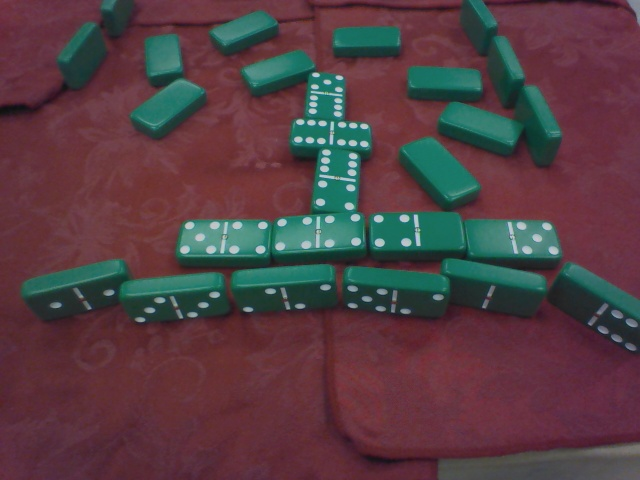A: (392, 135, 483, 205), (124, 74, 212, 142), (428, 95, 528, 154), (203, 4, 286, 56), (236, 46, 316, 96), (324, 17, 404, 66), (404, 62, 487, 99), (135, 31, 188, 78)
B: (297, 146, 374, 216), (363, 206, 465, 256), (465, 212, 559, 264), (267, 208, 368, 255), (175, 214, 272, 261), (286, 115, 375, 157), (296, 64, 353, 122)
C: (57, 23, 108, 92), (96, 1, 136, 37)
D: (512, 82, 571, 164), (482, 34, 526, 110), (453, 1, 499, 57)
E: (548, 259, 640, 356), (438, 247, 547, 326), (10, 260, 129, 326), (337, 265, 448, 323), (226, 265, 340, 320), (118, 274, 232, 324)
